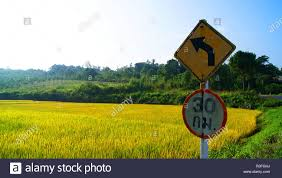curveLeft: (174, 19, 237, 86)
